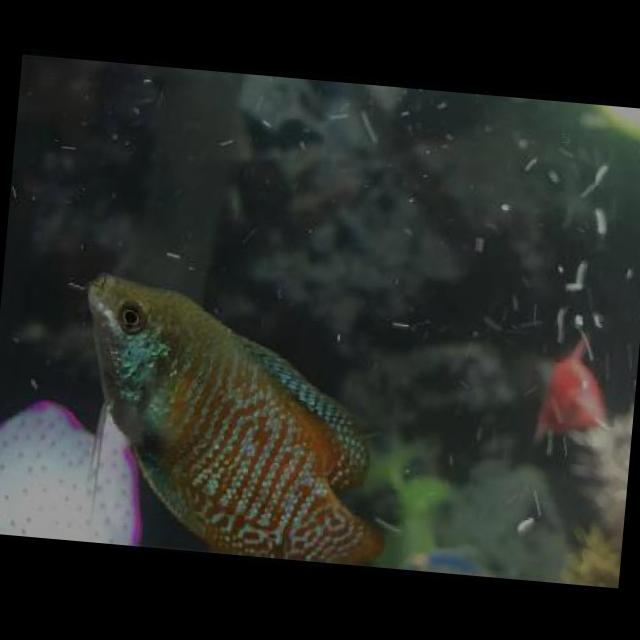Gourami: (61, 266, 411, 566)
